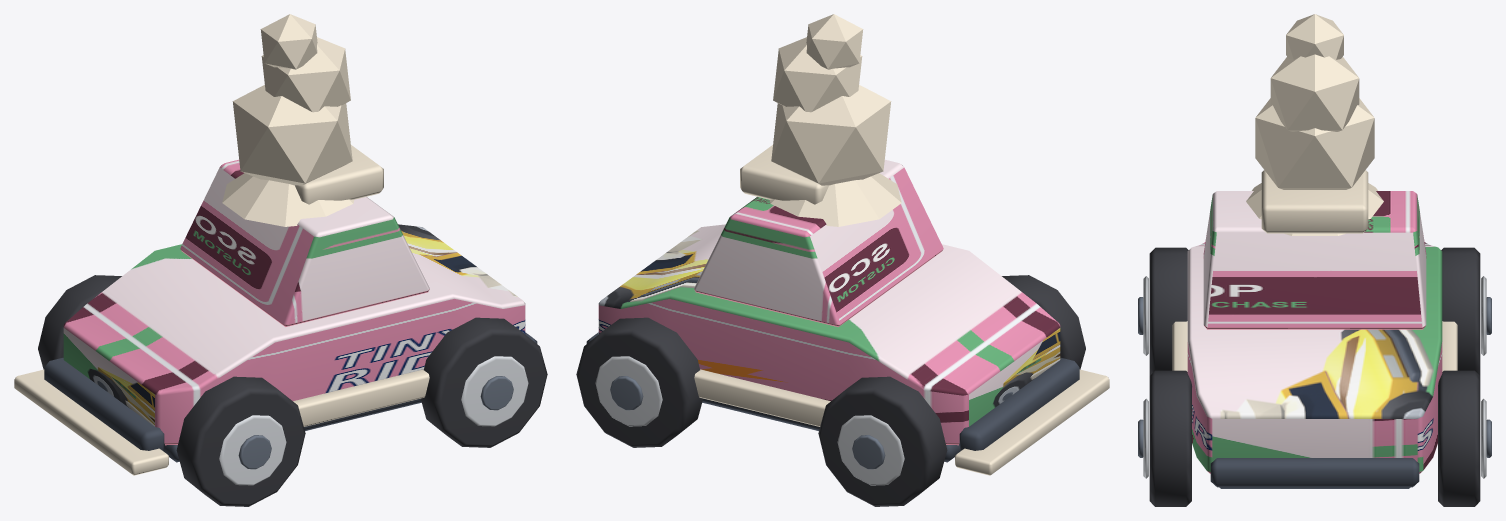
3 renders of one model, left to right at view 1: azimuth 30°, elevation 25°; view 2: azimuth 150°, elevation 25°; view 3: azimuth 270°, elevation 25°, orthographic. The views are drawn at different scales.
Visible parts, largest first — view 1: SS-01_connected_shell, SS-01_cabin, Tire, Tire.002, ice cream swirl 1, custom chin, ice cream swirl 2, ice cream base, front bumper, custom side guard, Rim, Rim.002 (+6 smaller); view 2: SS-01_connected_shell, SS-01_cabin, Tire.001, Tire.003, ice cream swirl 1, custom chin, ice cream swirl 2, ice cream base, front bumper, custom side guard.001, Rim.001, Rim.003 (+6 smaller); view 3: SS-01_connected_shell, SS-01_cabin, ice cream swirl 1, rear bumper, ice cream swirl 2, Tire.002, Tire.003, custom equipment, Tire, Tire.001, ice cream swirl 3, ice cream base (+6 smaller).
Boxes of the visible parts, left/top/right/bottom form: SS-01_connected_shell: left=63, top=224, right=525, bottom=445; SS-01_cabin: left=180, top=159, right=429, bottom=326; Tire: left=176, top=376, right=305, bottom=506; Tire.002: left=421, top=317, right=547, bottom=447; ice cream swirl 1: left=232, top=85, right=352, bottom=185; custom chin: left=14, top=369, right=168, bottom=475; ice cream swirl 2: left=261, top=37, right=350, bottom=112; ice cream base: left=222, top=173, right=354, bottom=226; front bumper: left=44, top=358, right=164, bottom=450; custom side guard: left=293, top=369, right=429, bottom=426; Rim: left=219, top=415, right=286, bottom=485; Rim.002: left=461, top=356, right=528, bottom=426; SS-01_connected_shell: left=598, top=224, right=1060, bottom=445; SS-01_cabin: left=694, top=159, right=943, bottom=326; Tire.001: left=818, top=376, right=947, bottom=506; Tire.003: left=576, top=317, right=702, bottom=447; ice cream swirl 1: left=771, top=85, right=891, bottom=185; custom chin: left=955, top=369, right=1109, bottom=475; ice cream swirl 2: left=773, top=37, right=862, bottom=112; ice cream base: left=769, top=173, right=901, bottom=226; front bumper: left=959, top=358, right=1079, bottom=450; custom side guard.001: left=694, top=369, right=830, bottom=426; Rim.001: left=837, top=415, right=904, bottom=485; Rim.003: left=595, top=356, right=662, bottom=426; SS-01_connected_shell: left=1187, top=242, right=1442, bottom=473; SS-01_cabin: left=1203, top=191, right=1426, bottom=329; ice cream swirl 1: left=1255, top=98, right=1374, bottom=189; rear bumper: left=1210, top=458, right=1419, bottom=487; ice cream swirl 2: left=1270, top=54, right=1359, bottom=131; Tire.002: left=1149, top=370, right=1191, bottom=506; Tire.003: left=1438, top=370, right=1480, bottom=506; custom equipment: left=1261, top=170, right=1368, bottom=233; Tire: left=1149, top=247, right=1188, bottom=375; Tire.001: left=1441, top=247, right=1480, bottom=375; ice cream swirl 3: left=1286, top=14, right=1343, bottom=59; ice cream base: left=1246, top=183, right=1383, bottom=235.
Bounding box in the file's own units: 307 × 287 × 217.
